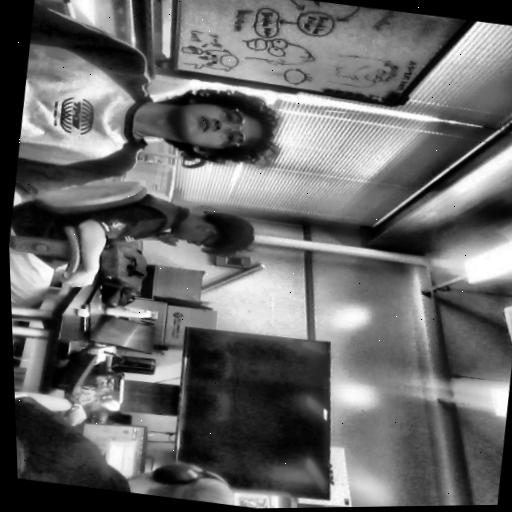Daifuku: (154, 75, 290, 175)
Not Daifuku: (121, 452, 239, 507), (167, 200, 262, 257)
